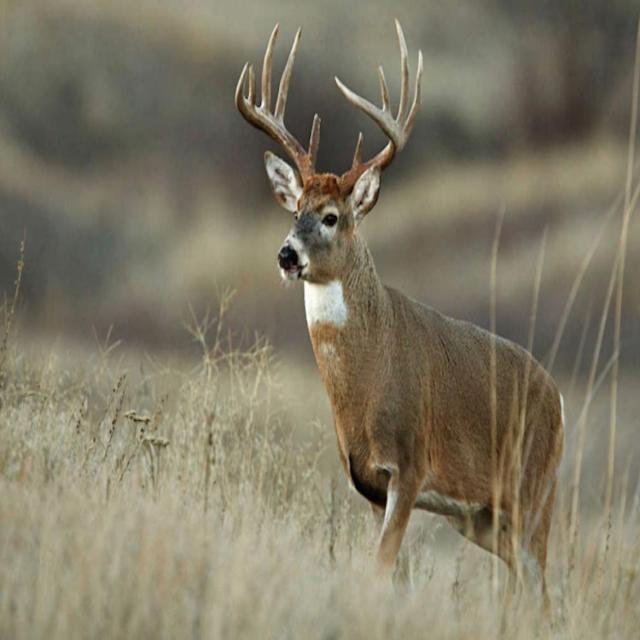L-F: (334, 74, 403, 202)
L-G1: (348, 131, 364, 171)
L-G3: (394, 16, 410, 131)
L-G4: (376, 65, 391, 115)
R-G1: (307, 112, 322, 167)
R-G2: (274, 25, 302, 126)
R-G3: (259, 20, 280, 116)
